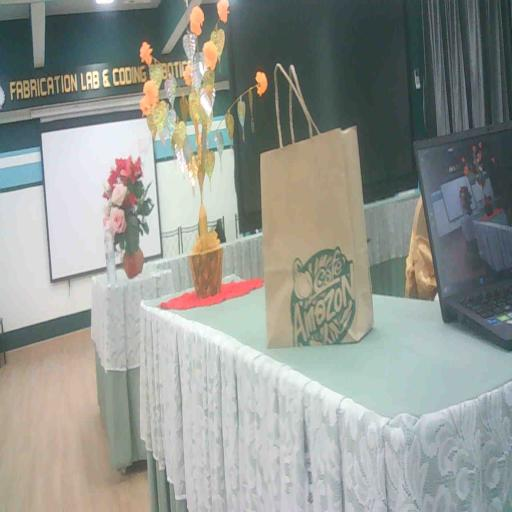bag: (254, 114, 381, 356)
